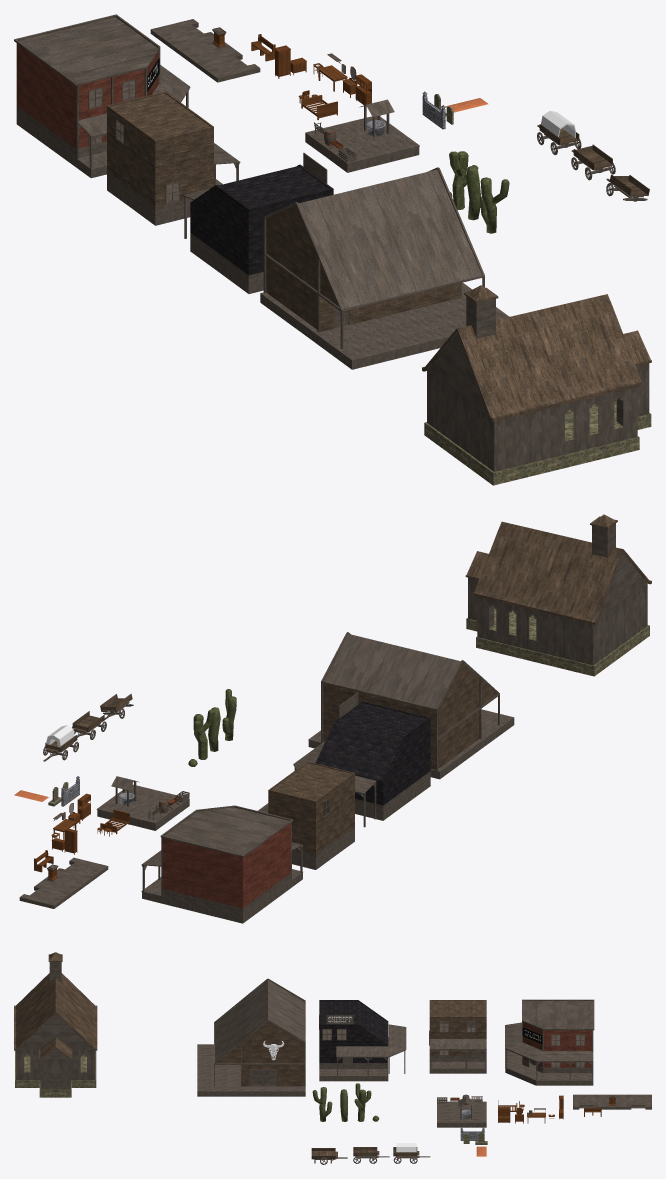
Rendered from village.glb.
3 views of the same model, one above another, from view 1: azimuth 30°, elevation 25°; view 2: azimuth 150°, elevation 25°; view 3: azimuth 270°, elevation 25° (orthographic). The views are drawn at different scales.
Visible parts, largest first — view 1: Cube.166, Cube.149, Cube.146, Cube.160, Cube.148, Cube.108, Cube.122, Cube.060, Cube.186, Cube.150, Cube.127, Cube.109 (+2 smaller); view 2: Cube.166, Cube.149, Cube.160, Cube.122, Cube.146, Cube.108, Cube.060, Cube.186, Cube.127, Cube.150, Cube.148, Cube.154; view 3: Cube.166, Cube.149, Cube.160, Cube.146, Cube.108, Cube.148, Cube.122, Cube.127, Cube.109, Cube.157, Cube.060, Cube.186 (+4 smaller).
Boxes of the visible parts, bbox=[...] form: Cube.166: bbox=[422, 285, 651, 485]; Cube.149: bbox=[266, 169, 481, 331]; Cube.146: bbox=[107, 91, 213, 216]; Cube.160: bbox=[190, 164, 333, 284]; Cube.148: bbox=[260, 282, 509, 369]; Cube.108: bbox=[14, 14, 188, 169]; Cube.122: bbox=[16, 43, 158, 157]; Cube.060: bbox=[305, 116, 419, 172]; Cube.186: bbox=[150, 19, 260, 82]; Cube.150: bbox=[263, 167, 484, 349]; Cube.127: bbox=[16, 115, 106, 178]; Cube.109: bbox=[77, 65, 190, 138]; Cube.166: bbox=[465, 514, 651, 676]; Cube.149: bbox=[323, 634, 497, 769]; Cube.160: bbox=[315, 701, 430, 812]; Cube.122: bbox=[162, 823, 290, 915]; Cube.146: bbox=[268, 761, 354, 862]; Cube.108: bbox=[142, 805, 302, 896]; Cube.060: bbox=[96, 784, 189, 830]; Cube.186: bbox=[19, 857, 108, 908]; Cube.127: bbox=[141, 869, 302, 923]; Cube.150: bbox=[321, 632, 499, 770]; Cube.148: bbox=[308, 709, 514, 779]; Cube.154: bbox=[355, 779, 430, 820]; Cube.166: bbox=[14, 952, 97, 1097]; Cube.149: bbox=[215, 980, 304, 1086]; Cube.160: bbox=[319, 1000, 388, 1068]; Cube.146: bbox=[429, 1000, 486, 1061]; Cube.108: bbox=[506, 999, 594, 1079]; Cube.148: bbox=[197, 1044, 305, 1096]; Cube.122: bbox=[523, 1022, 591, 1072]; Cube.127: bbox=[505, 1048, 593, 1085]; Cube.109: bbox=[505, 1022, 593, 1062]; Cube.157: bbox=[336, 1024, 406, 1057]; Cube.060: bbox=[437, 1101, 486, 1127]; Cube.186: bbox=[573, 1094, 651, 1109].
Size of the model in its own units: 23.48 by 9.35 by 53.38.
Materials: 15 (13 with a texture image).
